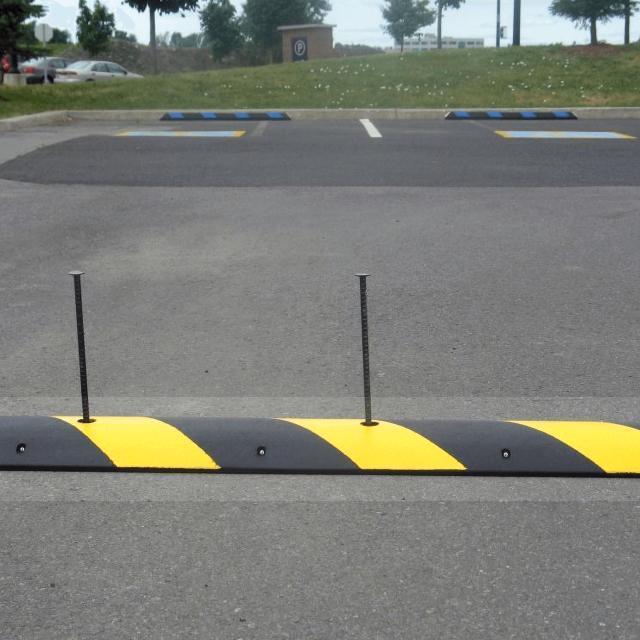Marked Bump: (25, 400, 640, 500)
